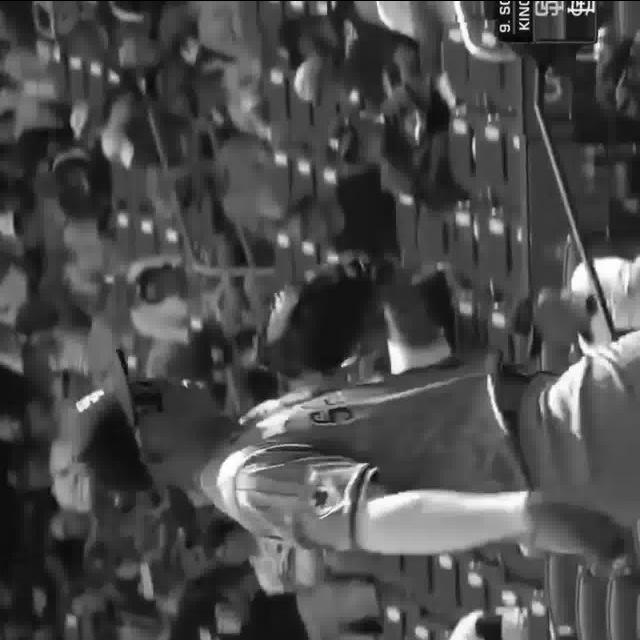baseball_glove: (255, 253, 392, 374)
